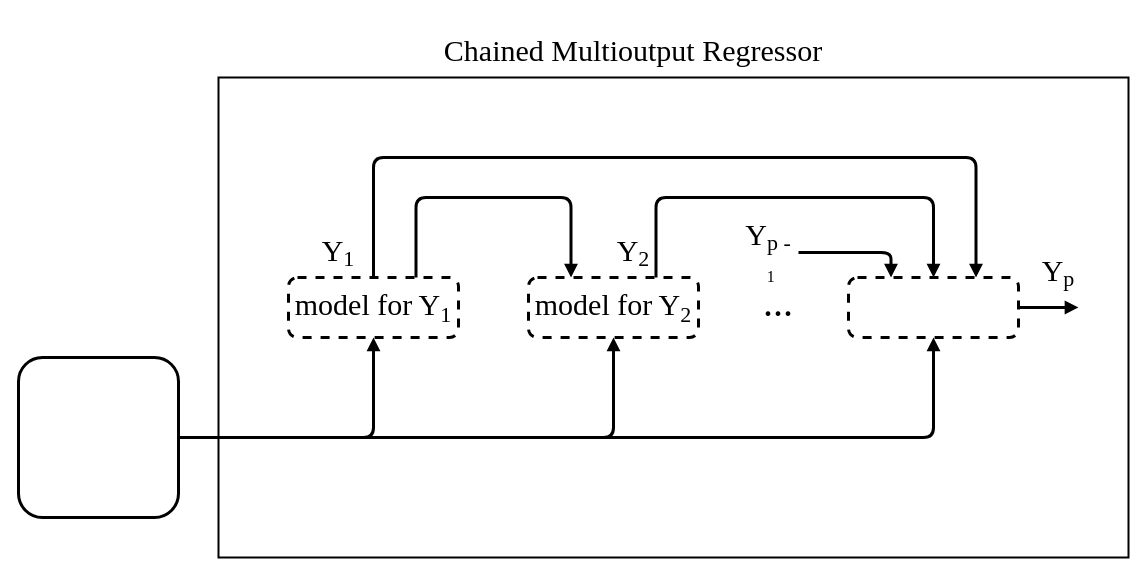
The diagram is 1147 pixels wide and 575 high, and some of its shapes have lost their labels. The shapes that lost their labels are listed below. From the top down, each one's centre as x and y in pixels, then its label:
At point 933,307: "model for Y p".
At point 98,437: "Input".
